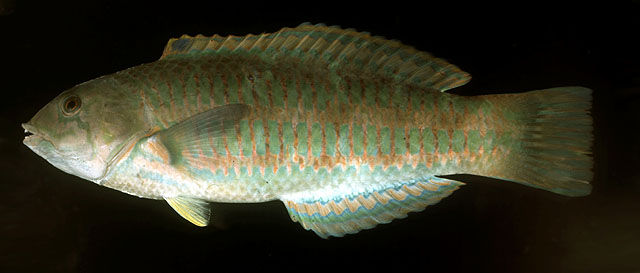fish: (19, 21, 595, 239)
